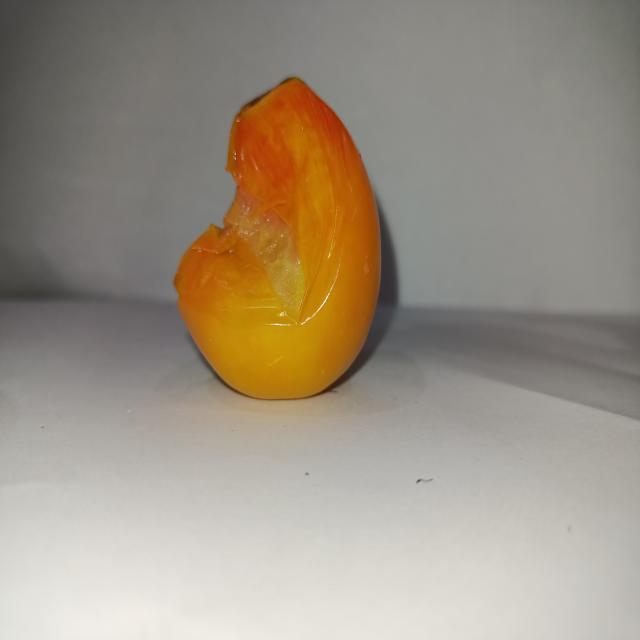Red: (172, 74, 383, 400)
